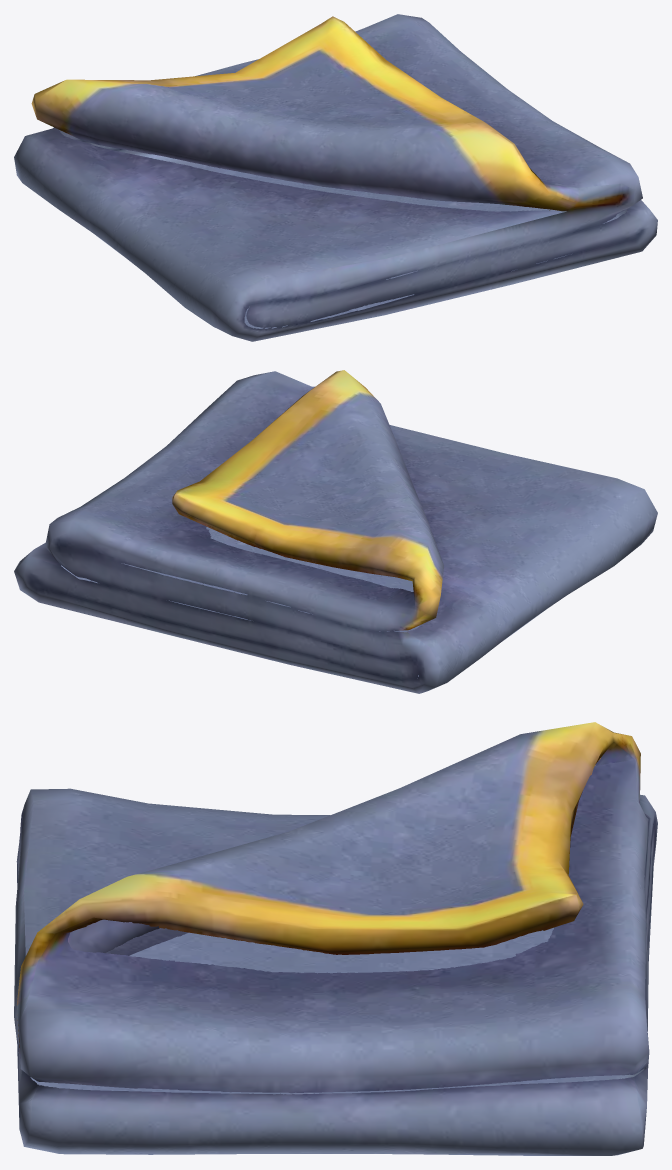
3 renders of one model, top to bottom at view 1: azimuth 30°, elevation 25°; view 2: azimuth 150°, elevation 25°; view 3: azimuth 270°, elevation 25°, orthographic. The views are drawn at different scales.
Parts seen in each view (by area): view 1: SM_Fine_Cloth_01_LOD0; view 2: SM_Fine_Cloth_01_LOD0; view 3: SM_Fine_Cloth_01_LOD0.
Boxes of the visible parts, bbox=[...] form: SM_Fine_Cloth_01_LOD0: bbox=[14, 14, 657, 341]; SM_Fine_Cloth_01_LOD0: bbox=[14, 370, 657, 693]; SM_Fine_Cloth_01_LOD0: bbox=[14, 722, 657, 1155].
Size of the model in its own units: 0.5574 by 0.1525 by 0.4905.
1 material, 1 textured.
